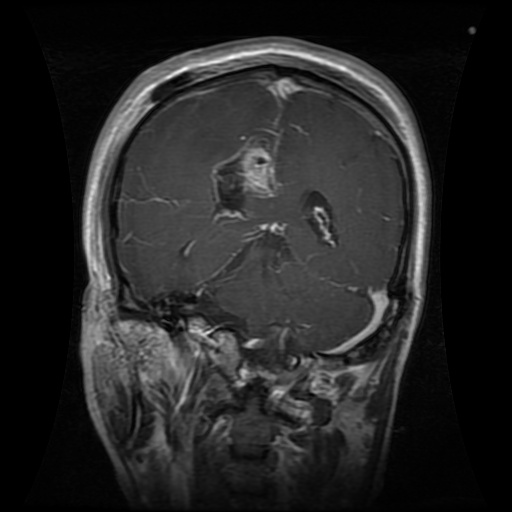glioma: (210, 126, 287, 220)
